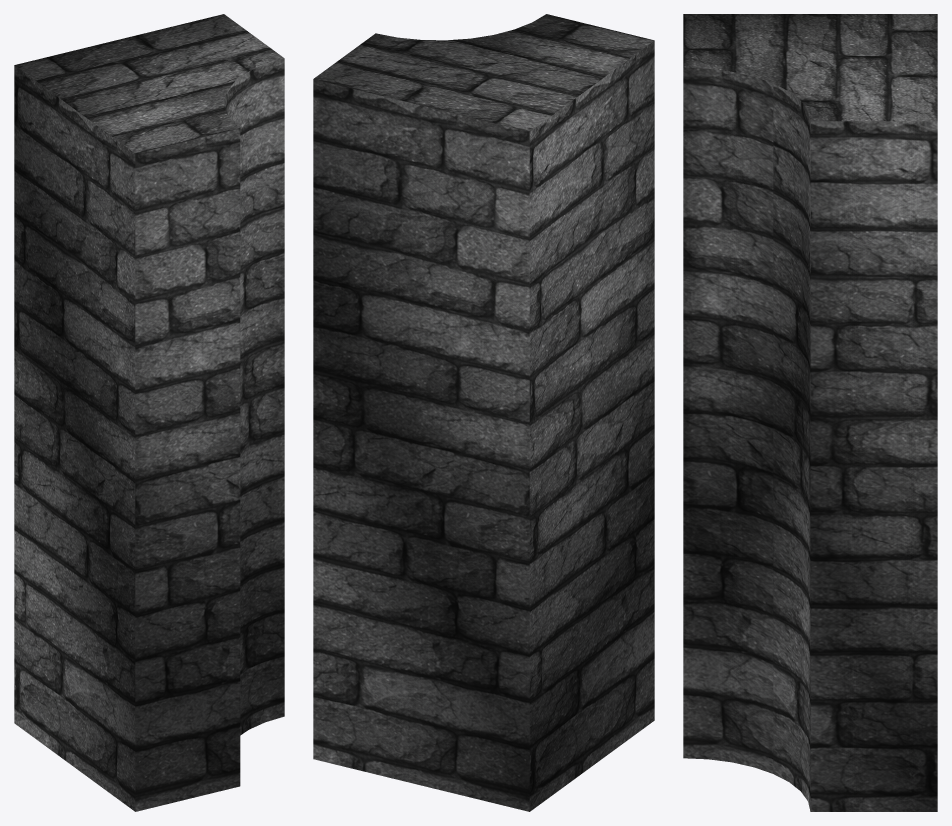
File: stone corner.glb
The picture shows the model from 3 angles, left to right: view 1: azimuth 30°, elevation 25°; view 2: azimuth 150°, elevation 25°; view 3: azimuth 270°, elevation 25°; orthographic projection. The views are drawn at different scales.
Visible parts, largest first — view 1: Circle.011; view 2: Circle.011; view 3: Circle.011.
Boxes of the visible parts, left/top/right/bottom form: Circle.011: left=14, top=14, right=284, bottom=811; Circle.011: left=313, top=14, right=654, bottom=811; Circle.011: left=683, top=14, right=937, bottom=811.
Size of the model in its own units: 0.9144 by 2.74 by 0.9144.
Materials: 1 (1 with a texture image).
